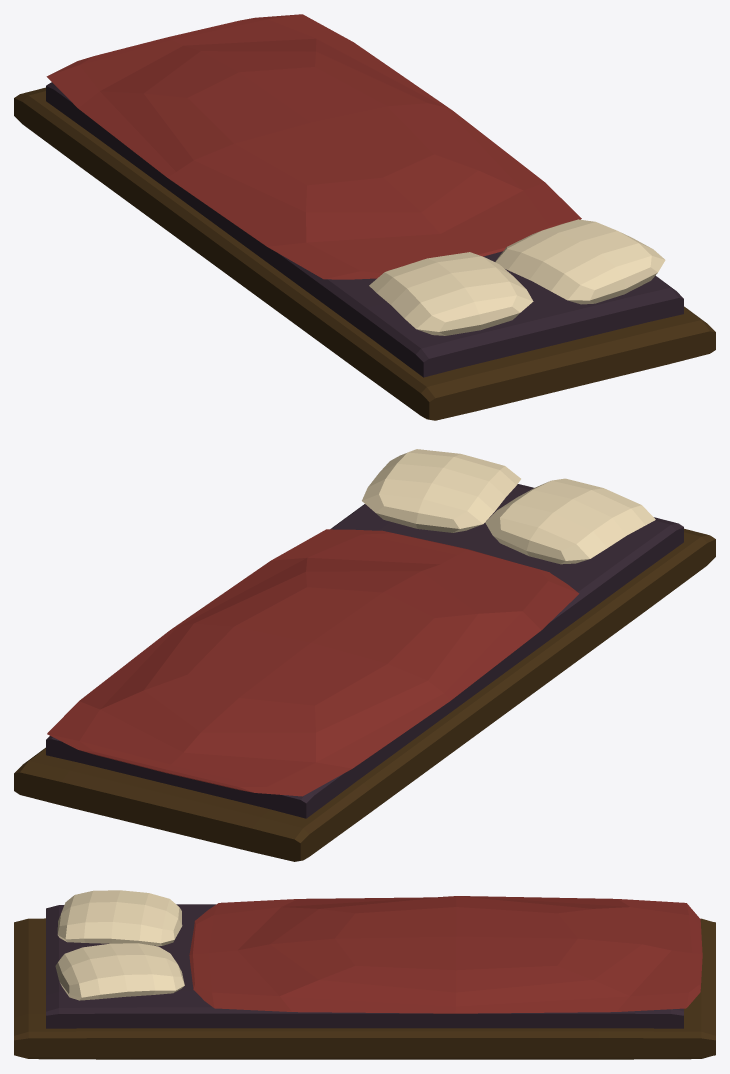
Rendered from Bed.fbx.
3 views of the same model, one above another, from view 1: azimuth 30°, elevation 25°; view 2: azimuth 150°, elevation 25°; view 3: azimuth 270°, elevation 25° (orthographic). The views are drawn at different scales.
Visible parts, largest first — view 1: Plane, Cube.018, Cube.019, Cube.021, Cube.020; view 2: Plane, Cube.018, Cube.019, Cube.020, Cube.021; view 3: Plane, Cube.018, Cube.019, Cube.020, Cube.021.
Part boxes in pixels (box(x1,y1,x2,y2)): Plane: box(46, 14, 581, 279); Cube.018: box(14, 87, 715, 420); Cube.019: box(46, 82, 683, 377); Cube.021: box(369, 252, 533, 335); Cube.020: box(495, 219, 665, 304); Plane: box(47, 529, 579, 796); Cube.018: box(14, 528, 715, 861); Cube.019: box(46, 484, 683, 818); Cube.020: box(362, 449, 520, 532); Cube.021: box(485, 478, 655, 564); Plane: box(189, 896, 702, 1013); Cube.018: box(14, 918, 715, 1059); Cube.019: box(46, 904, 683, 1028); Cube.020: box(55, 943, 184, 1000); Cube.021: box(57, 890, 182, 945).
Size of the model in its own units: 654 by 198 by 1642.
